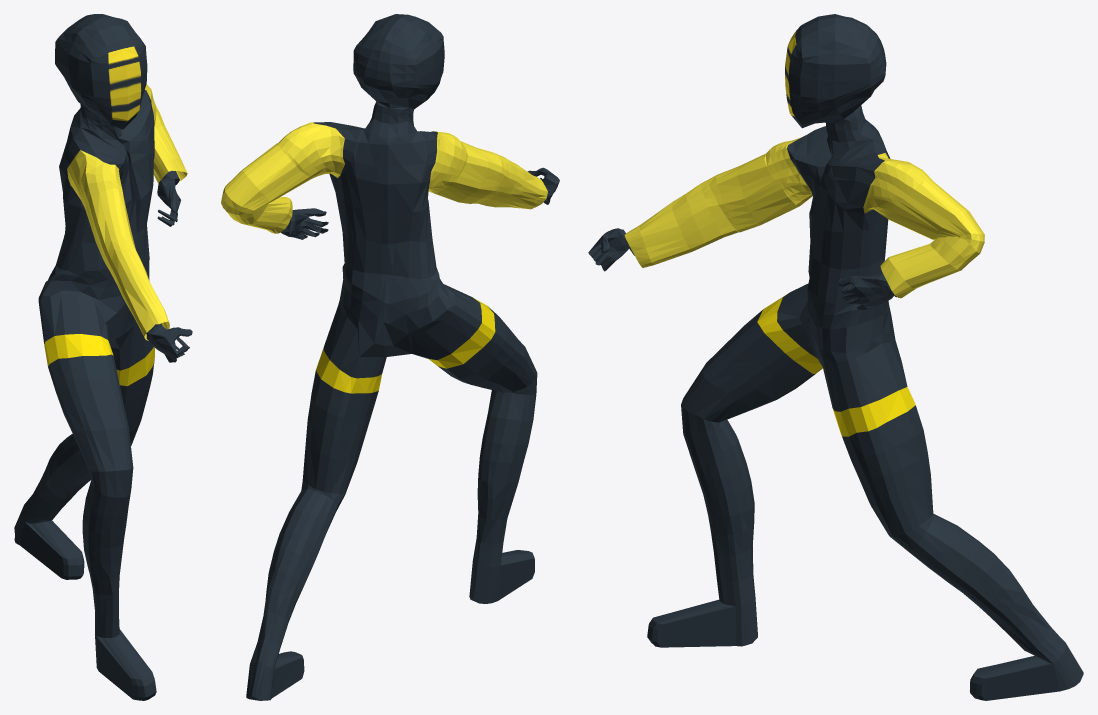
The model's file is Sentry_WB_000002.obj.
3 views of the same model, side by side, from view 1: azimuth 30°, elevation 25°; view 2: azimuth 150°, elevation 25°; view 3: azimuth 270°, elevation 25° (orthographic). The views are drawn at different scales.
Visible parts, largest first — view 1: Cube; view 2: Cube; view 3: Cube.
Boxes of the visible parts, bbox=[...] form: Cube: bbox=[14, 14, 192, 700]; Cube: bbox=[221, 14, 559, 700]; Cube: bbox=[588, 14, 1083, 700].
Size of the model in its own units: 1.18 by 3.63 by 2.48.
